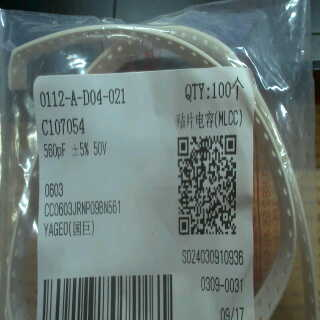560pF: (42, 138, 70, 160)
